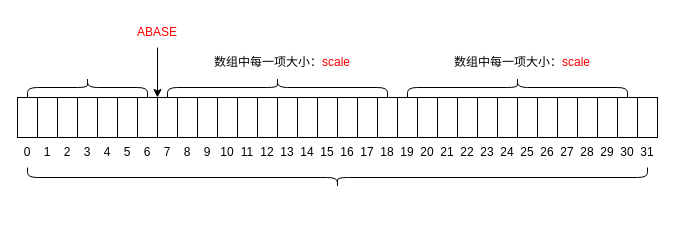
Some shapes in this 675 by 234 pixel diagram are drawn without their labels. The box of each missing label's shape, as (x1, y1, x2, y2) in pixels:
一个在内存中的数组对象: (26, 166, 648, 188)
对象头: (26, 76, 148, 98)
